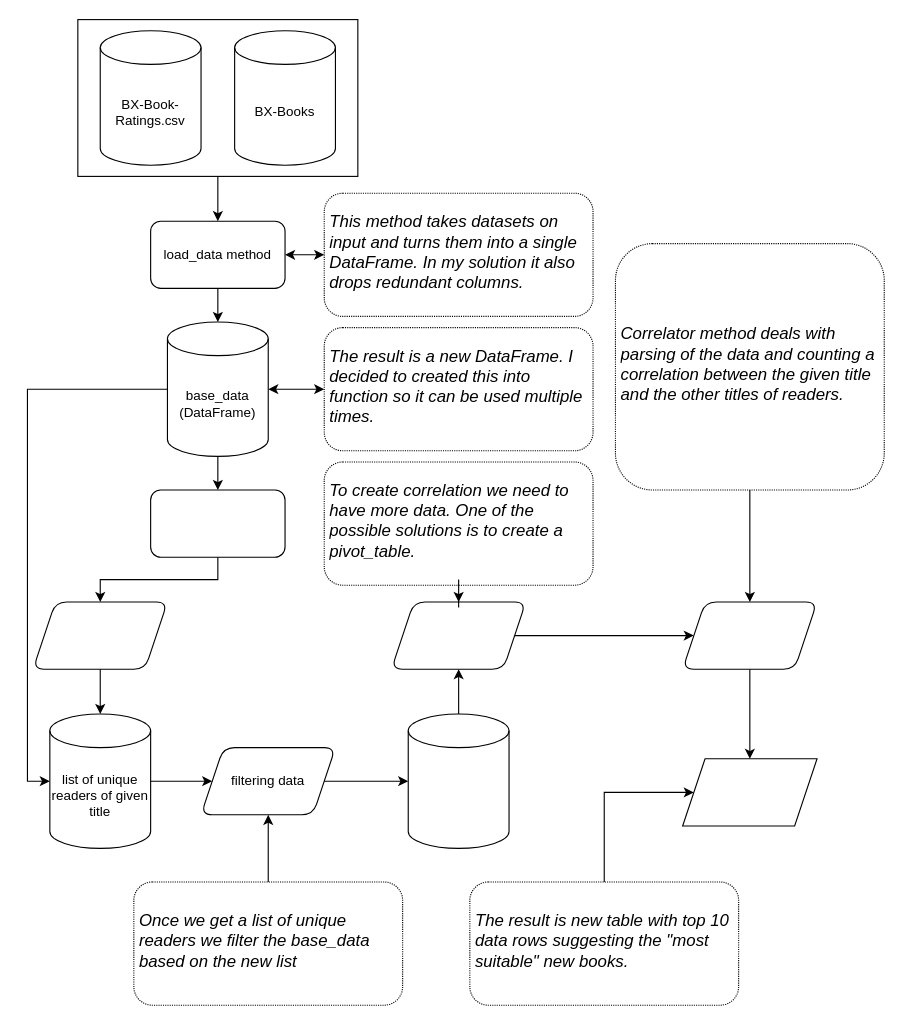
The diagram is 904 pixels wide and 1025 high, and some of its shapes have lost their labels. Here are the shapes that lost their labels. From the top down, the centre of each, then its label:
the point at 217,523: get_pivot_for_title
the point at 99,635: get_unique_ readers
the point at 458,635: create_pivot
the point at 749,635: correlator method
the point at 458,780: final_dataset
the point at 749,792: Result
